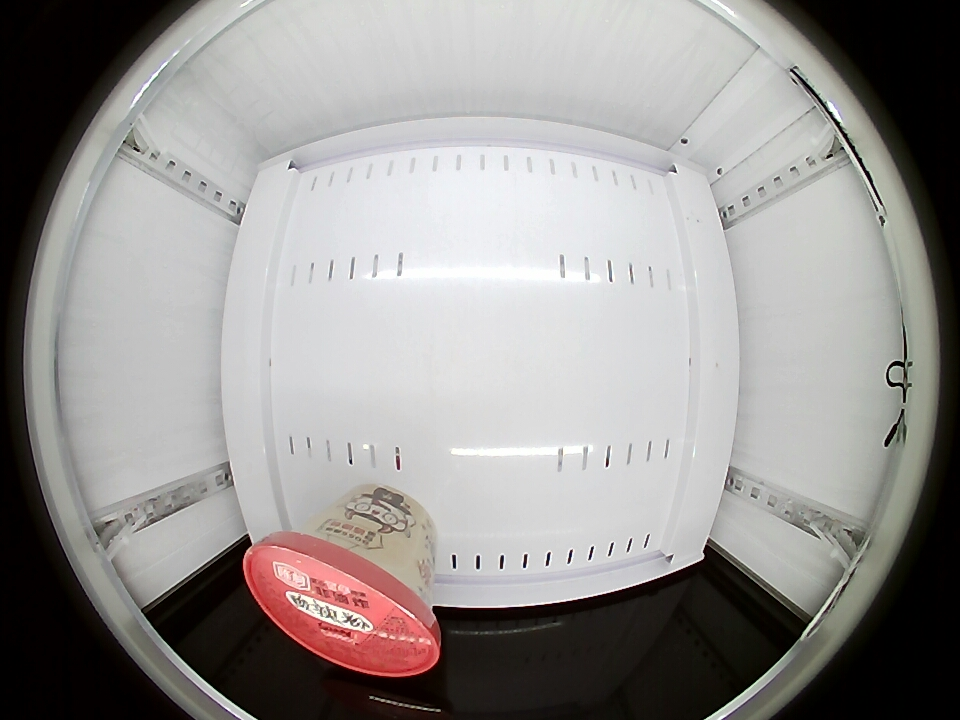suanlafen: (243, 524, 440, 677)
